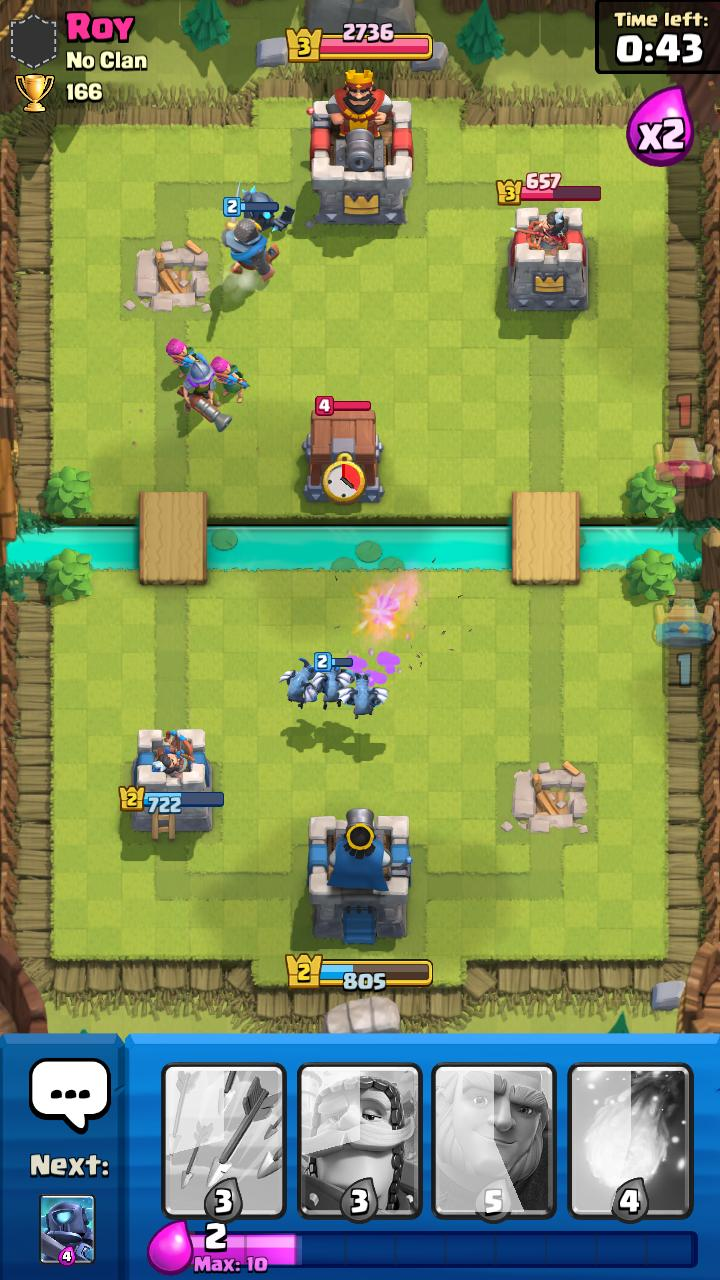ally: (221, 182, 279, 283), (177, 353, 232, 432), (336, 672, 390, 719), (312, 652, 355, 710), (242, 185, 295, 232), (279, 658, 318, 709), (209, 356, 250, 403), (166, 338, 200, 379)
enemy: (301, 396, 385, 504)
